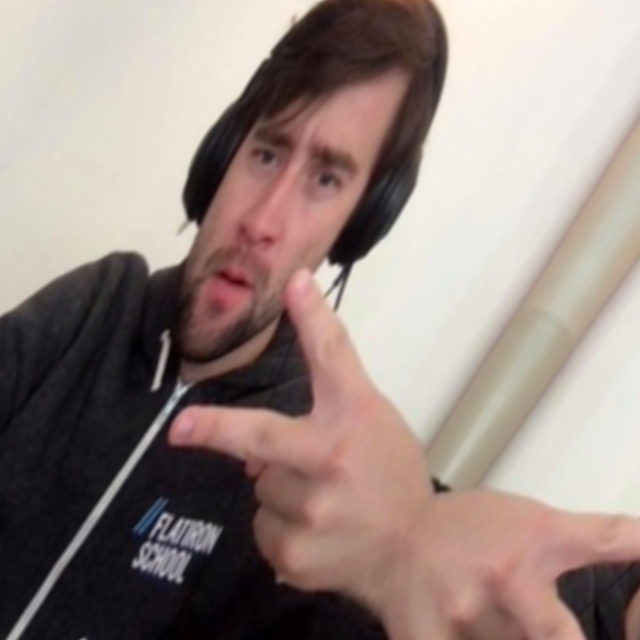Scissors: (120, 240, 508, 640)
